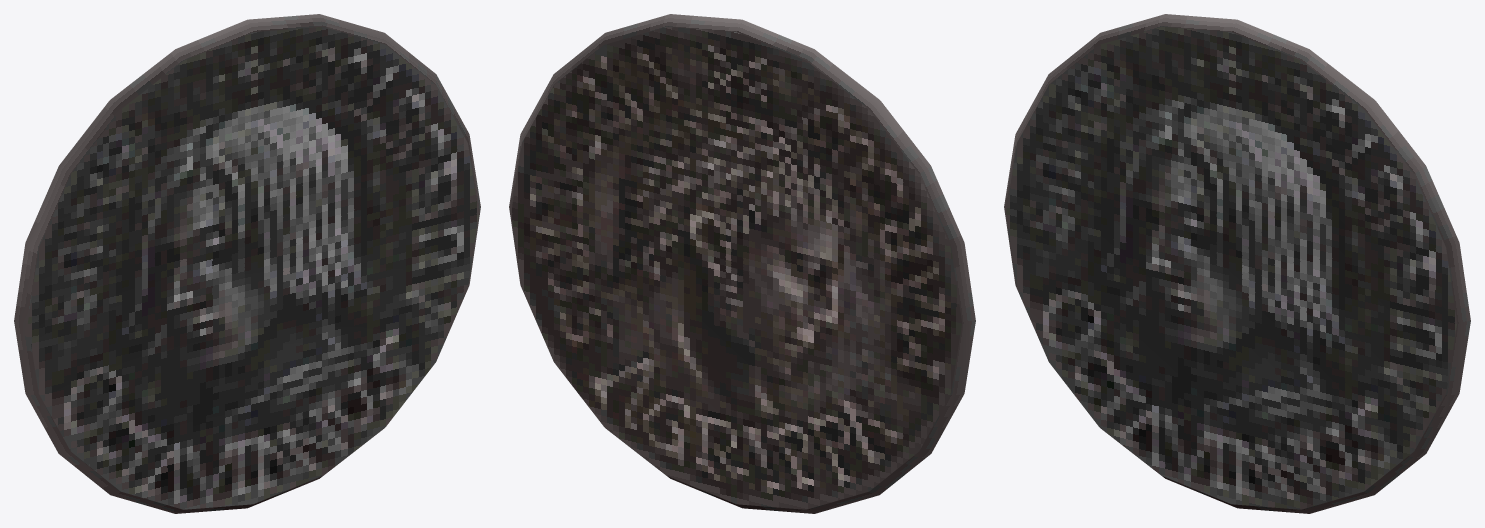
File: ps2_save-icons_shadowofrome.glb
The picture shows the model from 3 angles, left to right: view 1: azimuth 30°, elevation 25°; view 2: azimuth 150°, elevation 25°; view 3: azimuth 330°, elevation 25°; orthographic projection.
Parts seen in each view (by area): view 1: sor_nml.ico; view 2: sor_nml.ico; view 3: sor_nml.ico.
Part boxes in pixels (left/top/right/bottom): sor_nml.ico: left=14, top=14, right=480, bottom=513; sor_nml.ico: left=509, top=14, right=975, bottom=513; sor_nml.ico: left=1004, top=14, right=1470, bottom=513.
Bounding box in the file's own units: 3.87 × 3.87 × 0.168.
1 material, 1 textured.
